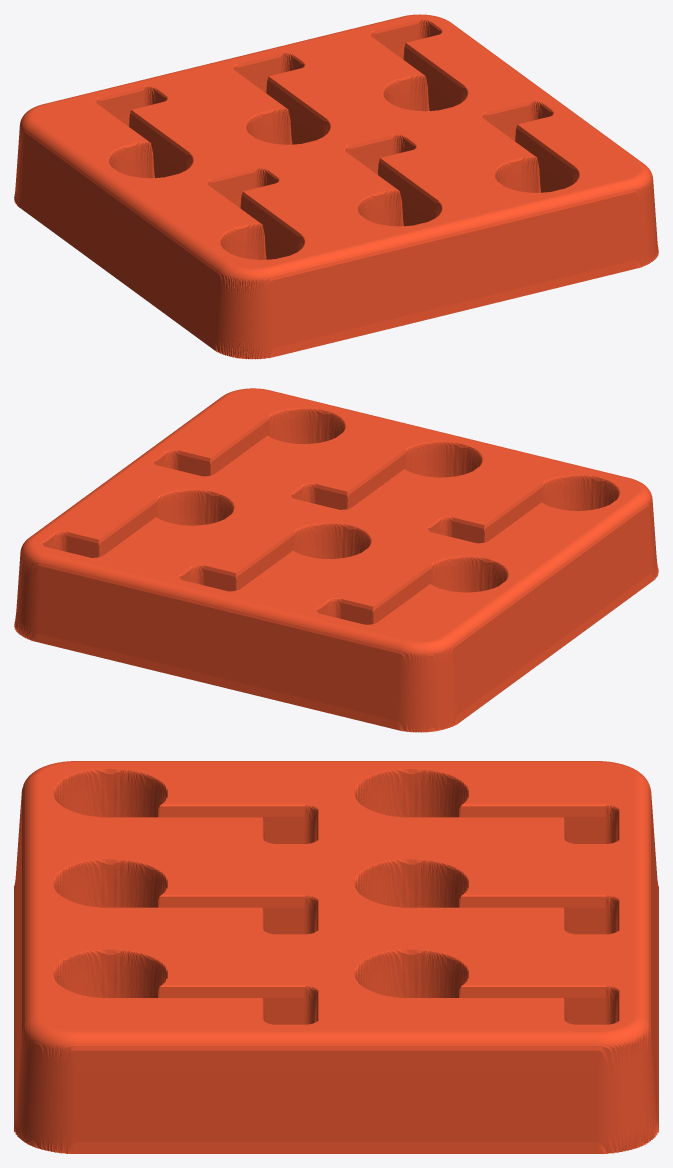
Rendered from mold.glb.
The picture shows the model from 3 angles, top to bottom: view 1: azimuth 30°, elevation 25°; view 2: azimuth 150°, elevation 25°; view 3: azimuth 270°, elevation 25°; orthographic projection. The views are drawn at different scales.
Visible parts, largest first — view 1: geometry_0; view 2: geometry_0; view 3: geometry_0.
Part boxes in pixels (box(x1,y1,x2,y2)): geometry_0: box(14, 14, 658, 359); geometry_0: box(14, 388, 658, 732); geometry_0: box(14, 761, 658, 1153).
Size of the model in its own units: 0.1005 by 0.0182 by 0.0947.
